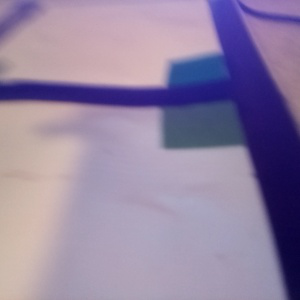bottom_left: (163, 87, 277, 149), (169, 55, 261, 101)
